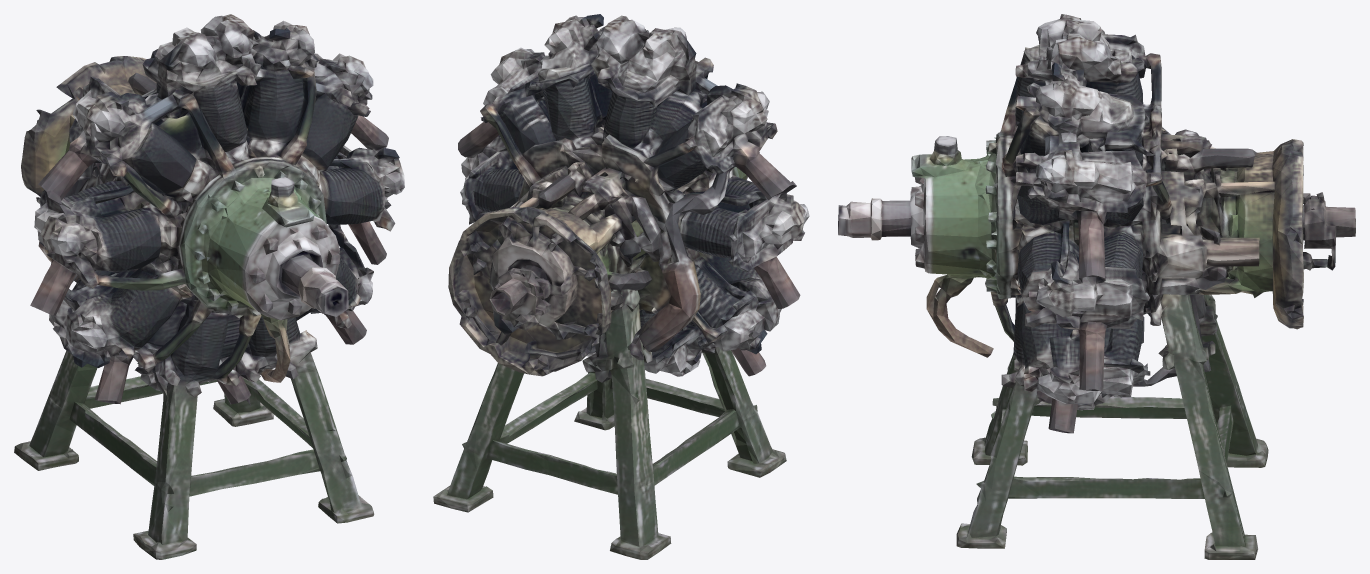
File: engine_radial.obj
The picture shows the model from 3 angles, left to right: view 1: azimuth 30°, elevation 25°; view 2: azimuth 150°, elevation 25°; view 3: azimuth 270°, elevation 25°; orthographic projection. The views are drawn at different scales.
Visible parts, largest first — view 1: engine_radial; view 2: engine_radial; view 3: engine_radial.
Boxes of the visible parts, left/top/right/bottom form: engine_radial: left=14, top=14, right=404, bottom=559; engine_radial: left=433, top=14, right=809, bottom=559; engine_radial: left=838, top=14, right=1355, bottom=559.
Bounding box in the file's own units: 1.31 × 1.65 × 1.65.
Materials: 1 (1 with a texture image).
